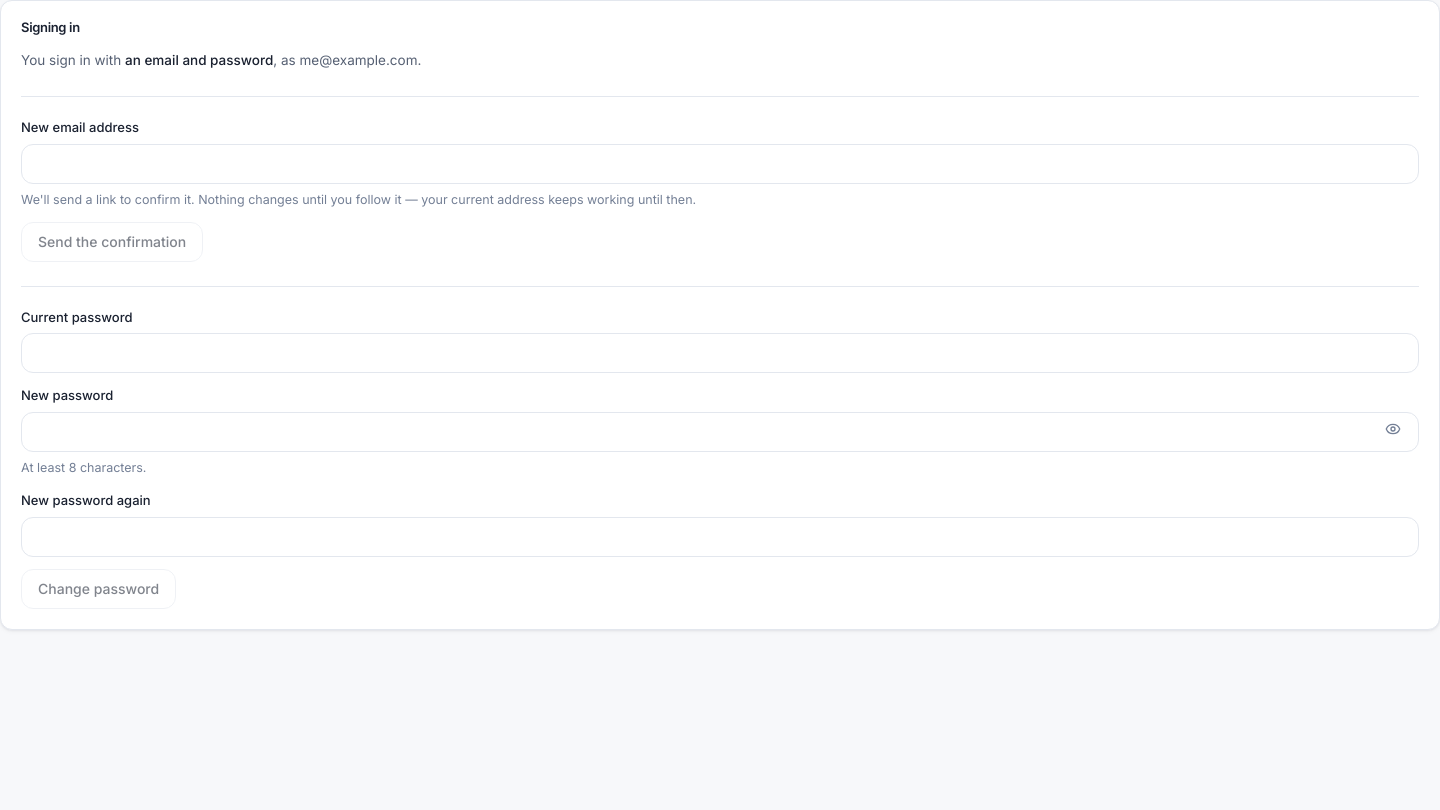
Test: changing the password › refuses two that do not match before it spends a round trip
Type "right-one" into the password field labelled "Current password".
click(720, 353); type("right-one")  # box [21,333,1419,373]
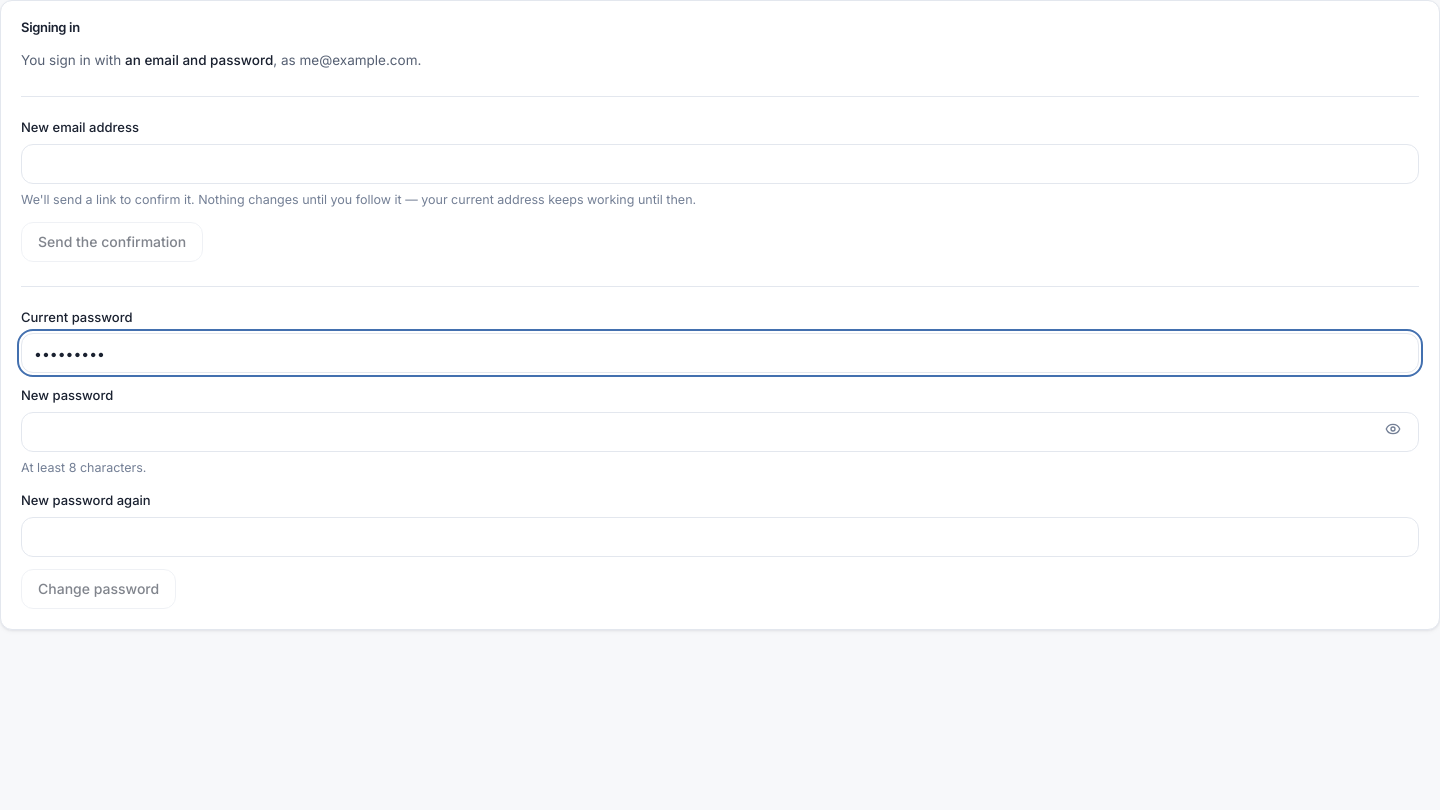
Type "a-good-long-one" into the password field labelled "New password".
click(720, 432); type("a-good-long-one")  # box [21,412,1419,452]
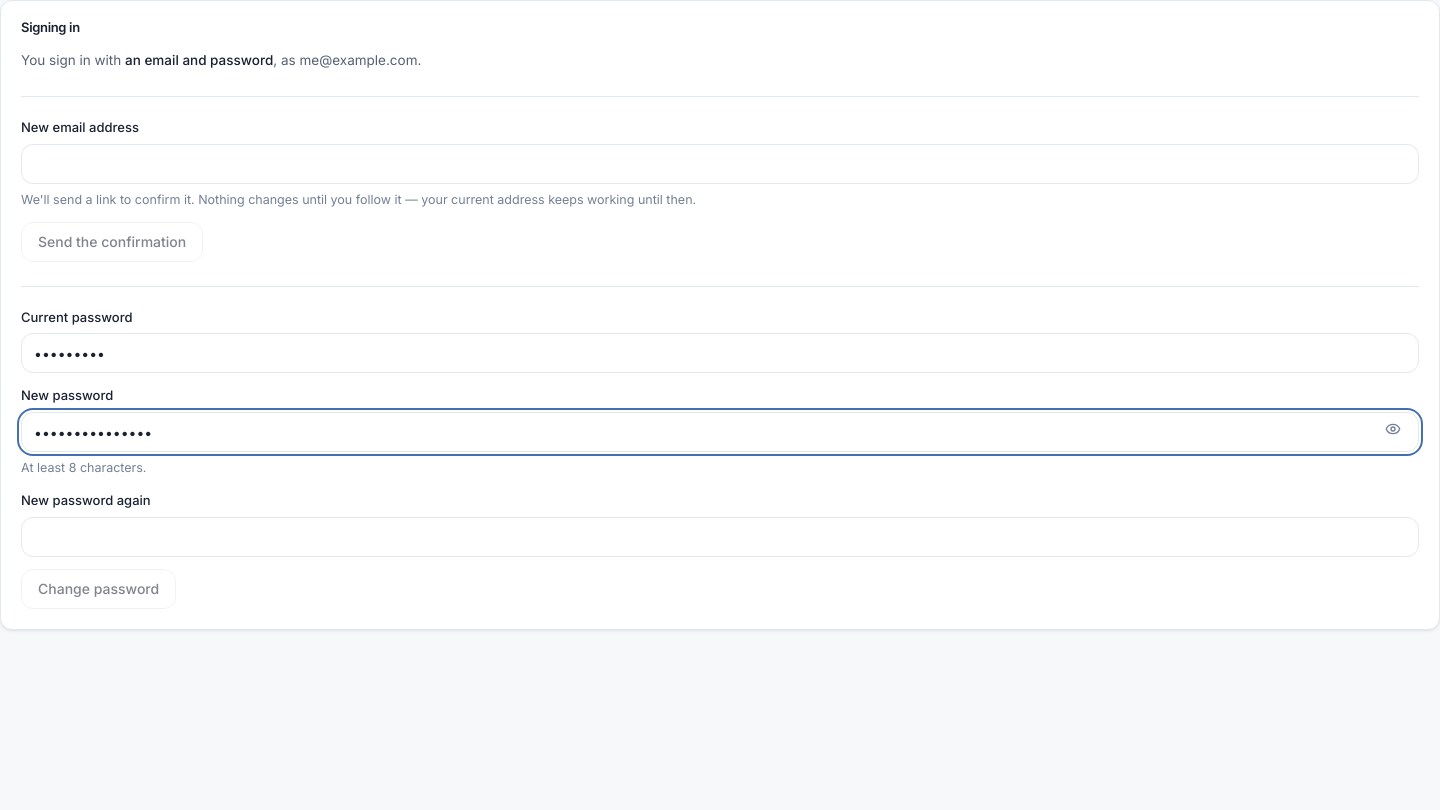
Type "a-good-long-two" into the password field labelled "New password again".
click(720, 537); type("a-good-long-two")  # box [21,517,1419,557]
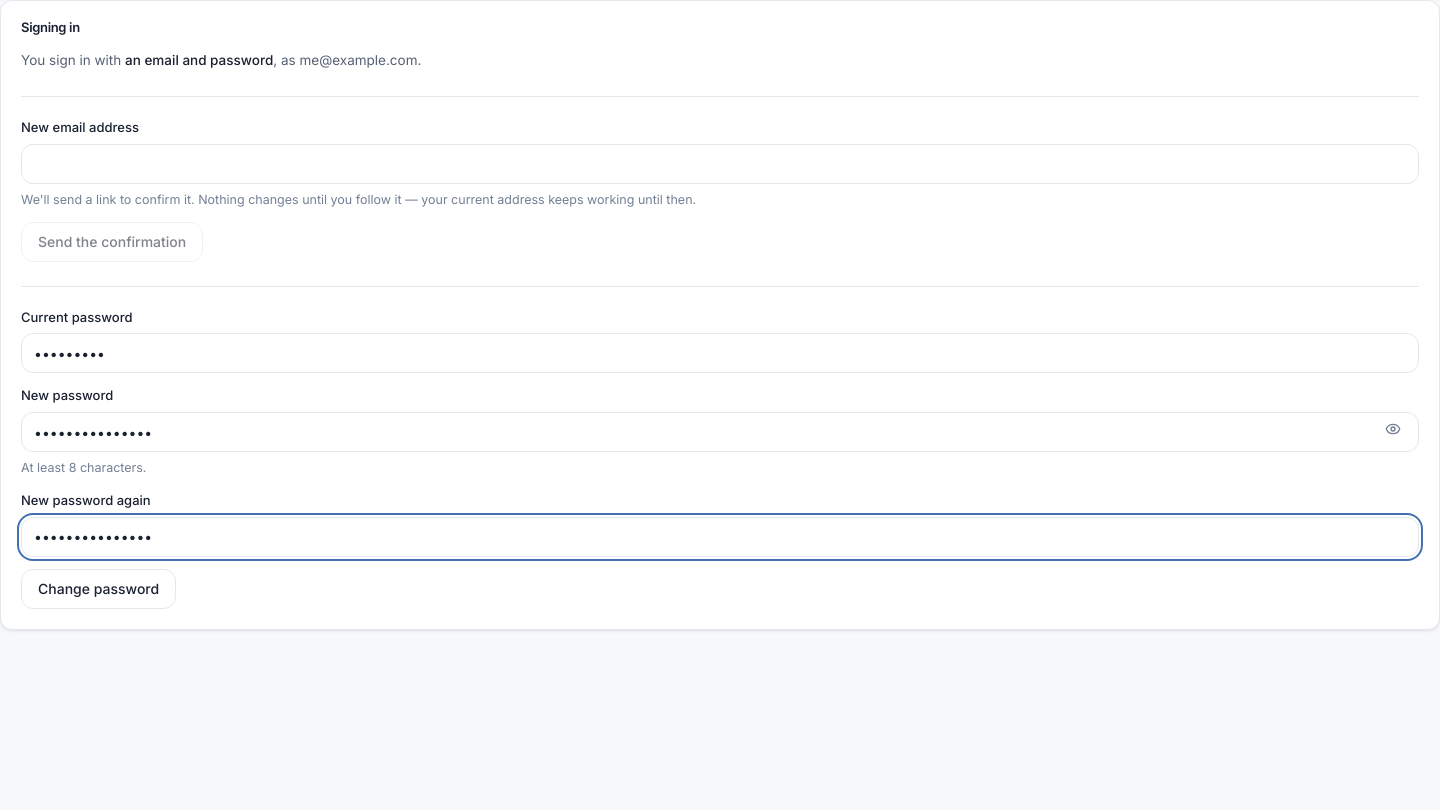
Click the button "Change password".
click(99, 589)  # box [21,569,176,609]
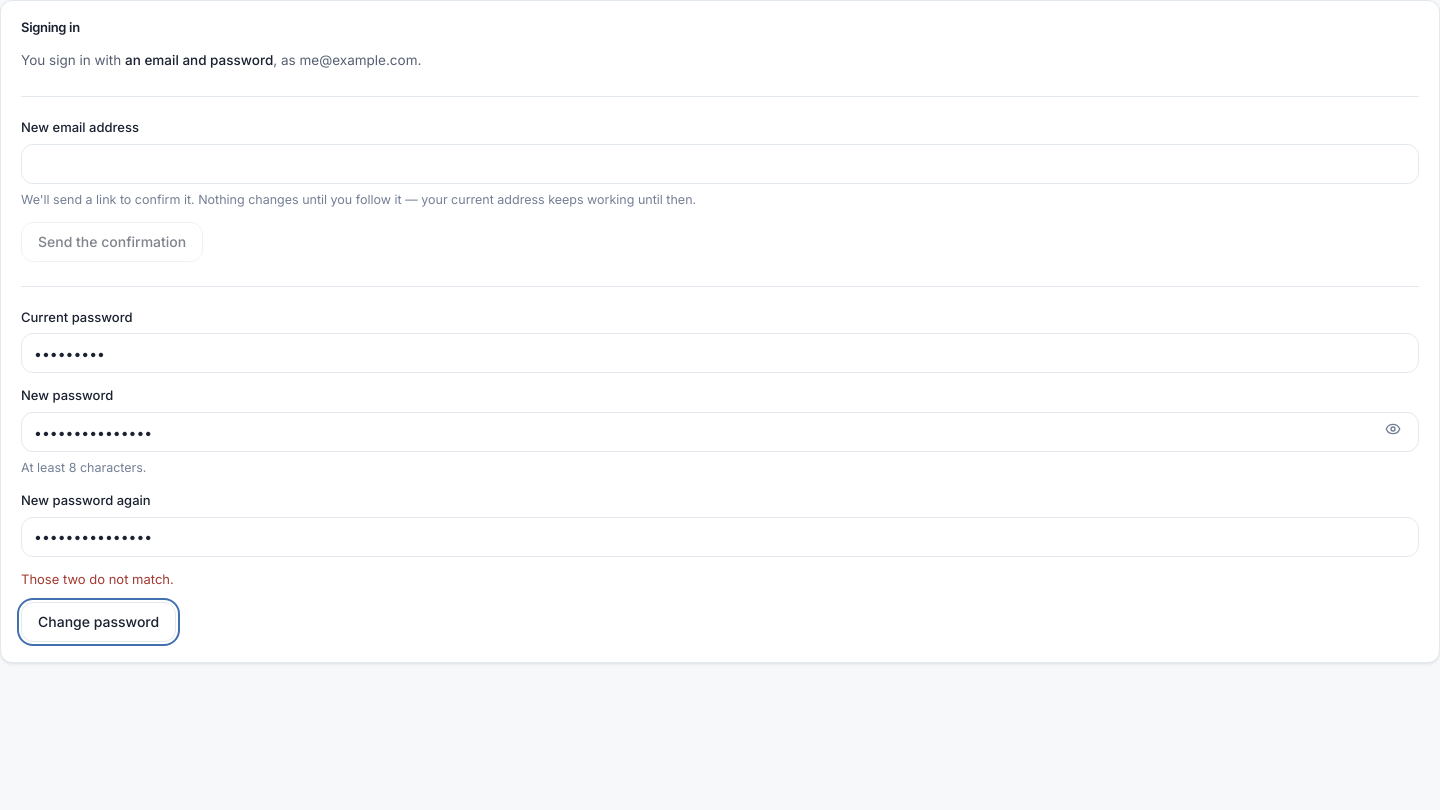
expect the message shows "do not match": met, box [21,571,174,587]
